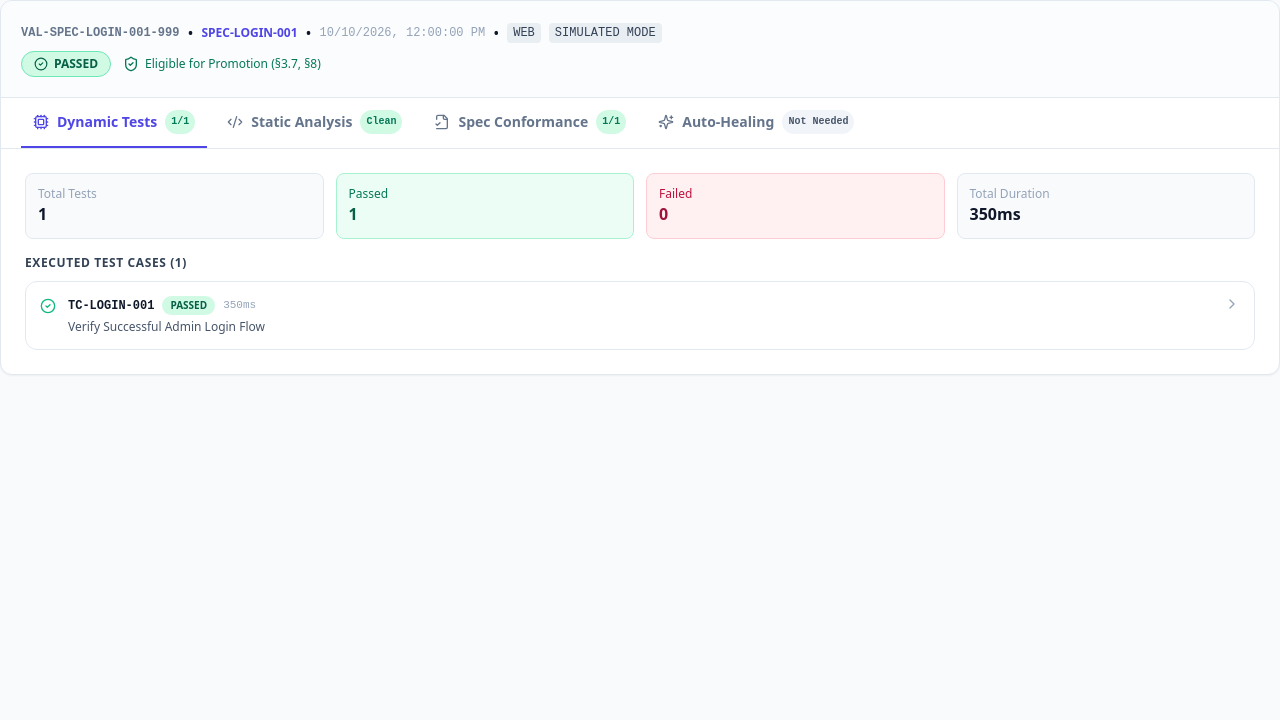
Test: ValidationReportView component (§W4) › switches tabs to inspect specification conformance
The width and height of the screenshot is (1280, 720).
Click Spec Conformance tab
Click the button "Spec Conformance 1/1": (530, 123) [422, 98, 638, 148]
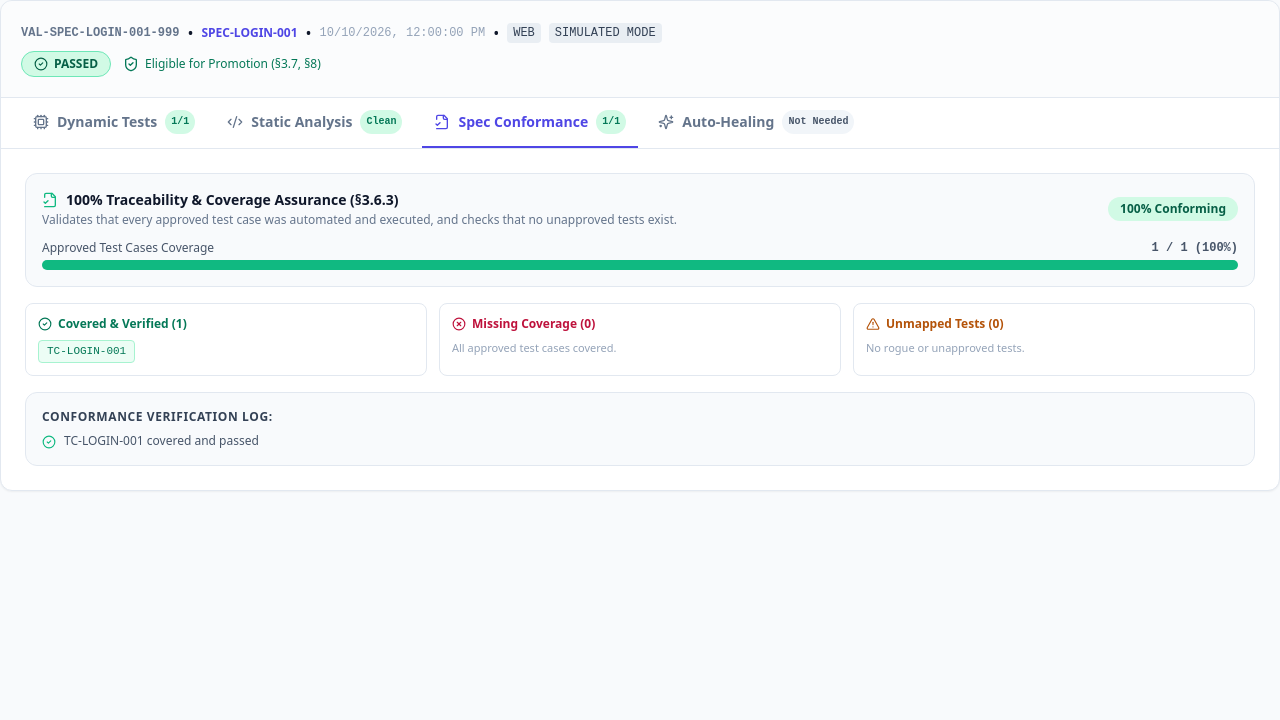
Now the heading "100% Traceability & Coverage Assurance (§3.6.3)" is shown, box [42, 190, 398, 209]
Now the text "100% Conforming" is shown, box [1108, 197, 1238, 221]
